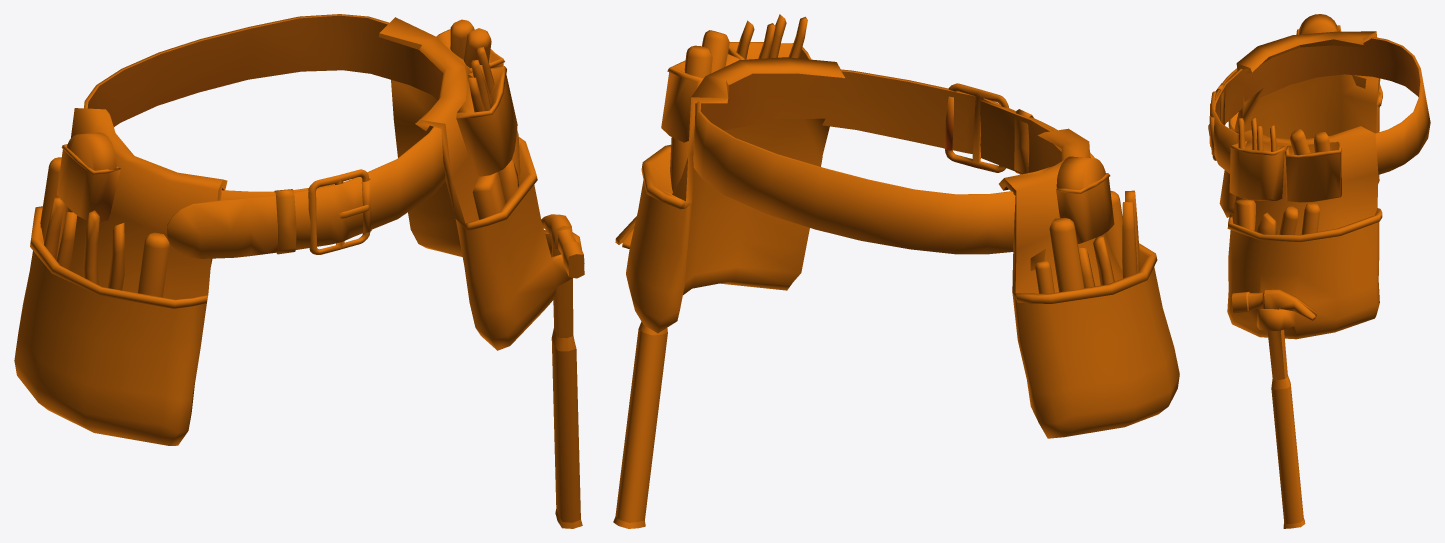
The model's file is coldremasc3.glb.
3 renders of one model, left to right at view 1: azimuth 30°, elevation 25°; view 2: azimuth 150°, elevation 25°; view 3: azimuth 270°, elevation 25°, orthographic. The views are drawn at different scales.
Parts seen in each view (by area): view 1: hash_CD57A9EB.model; view 2: hash_CD57A9EB.model; view 3: hash_CD57A9EB.model.
Part boxes in pixels (<box>): hash_CD57A9EB.model: <box>14,14,584,528</box>; hash_CD57A9EB.model: <box>613,14,1179,528</box>; hash_CD57A9EB.model: <box>1208,14,1430,528</box>.
Size of the model in its own units: 0.6089 by 0.5496 by 0.3017.
